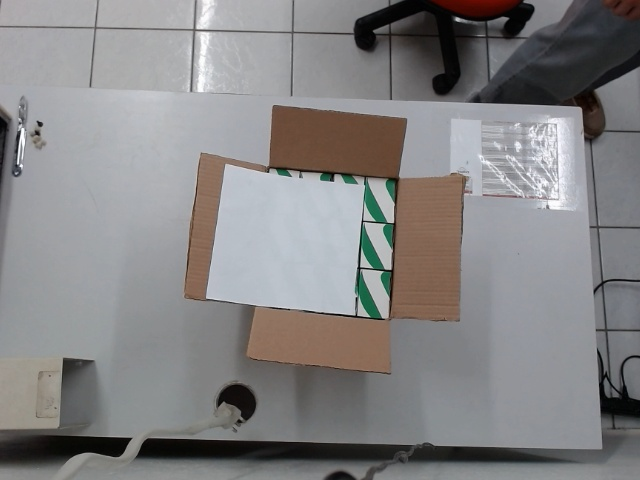divisor: (204, 163, 367, 316)
item: (355, 267, 393, 322), (359, 219, 396, 272), (360, 176, 400, 222), (331, 169, 367, 186), (268, 163, 301, 179), (300, 167, 334, 182)
